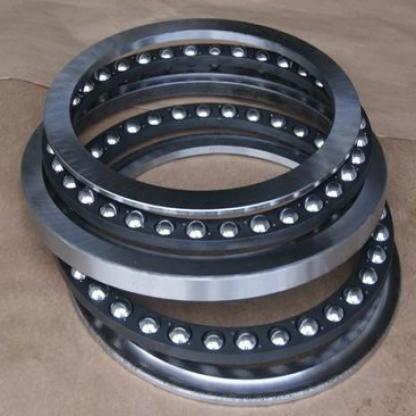FOD: (18, 10, 393, 305)
